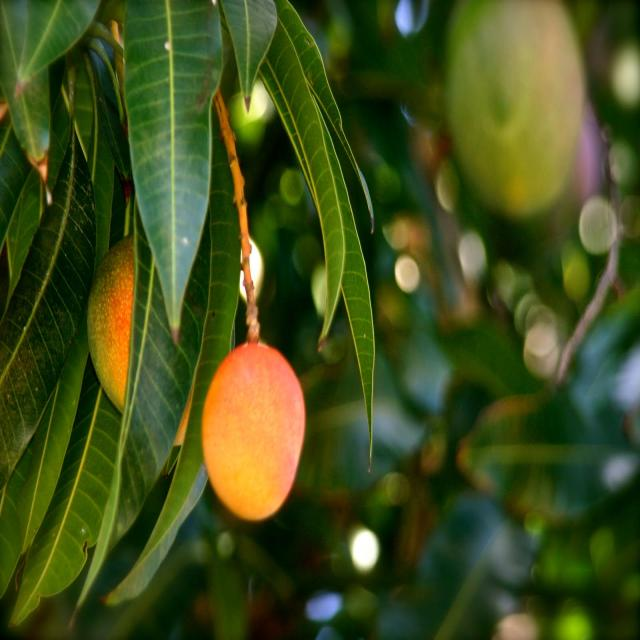mango: (202, 342, 305, 518)
